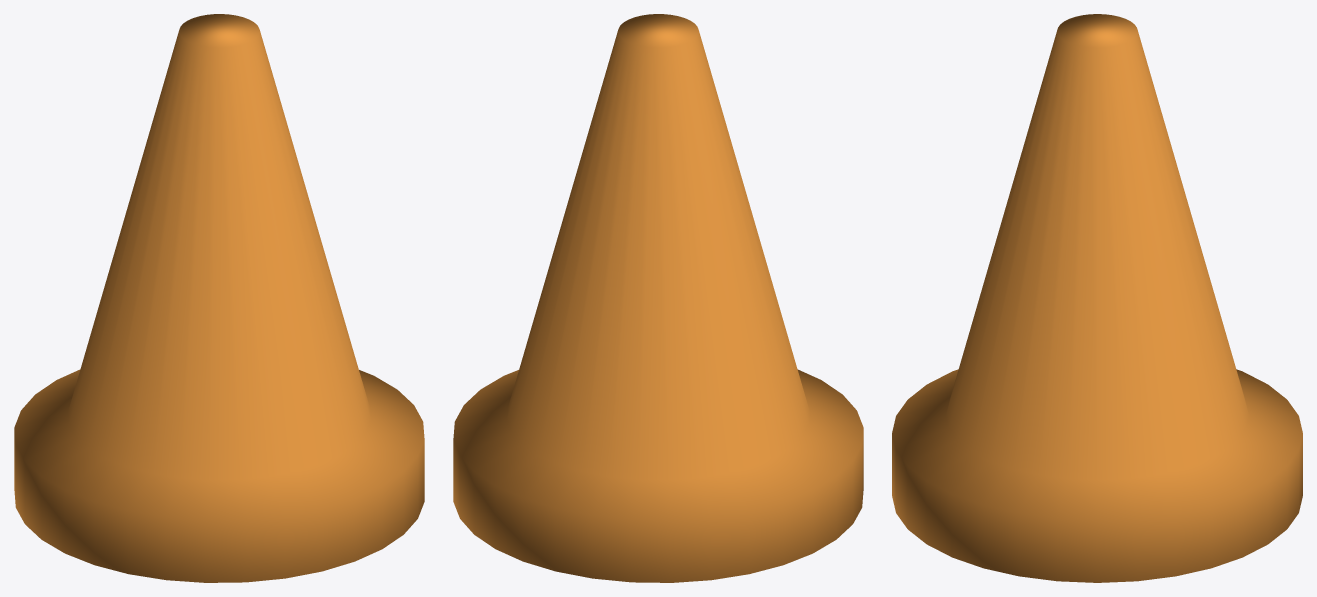
The picture shows the model from 3 angles, left to right: view 1: azimuth 30°, elevation 25°; view 2: azimuth 150°, elevation 25°; view 3: azimuth 270°, elevation 25°; orthographic projection.
Visible parts, largest first — view 1: Cylinder; view 2: Cylinder; view 3: Cylinder.
Part boxes in pixels (box(x1,y1,x2,y2)): Cylinder: box(14, 14, 424, 582); Cylinder: box(453, 14, 863, 582); Cylinder: box(892, 14, 1302, 582).
Size of the model in its own units: 20 by 24.99 by 20.
